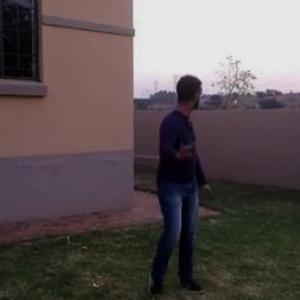takeoff-hand: (173, 130, 196, 164)
